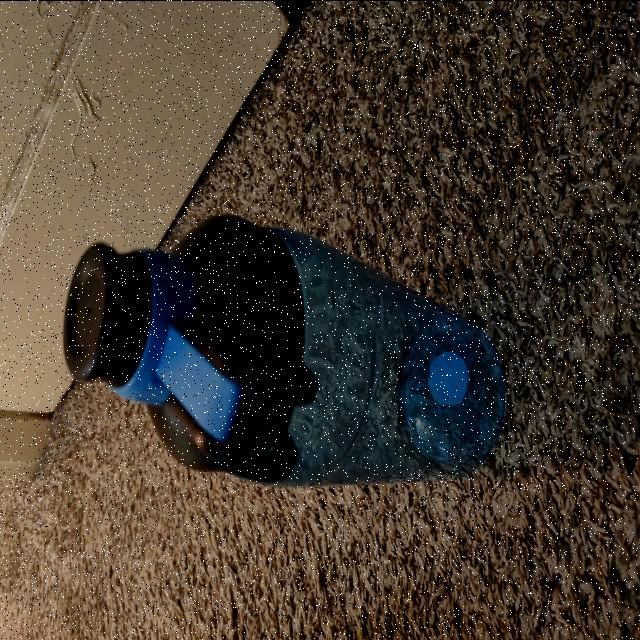bottle: (72, 238, 516, 478)
